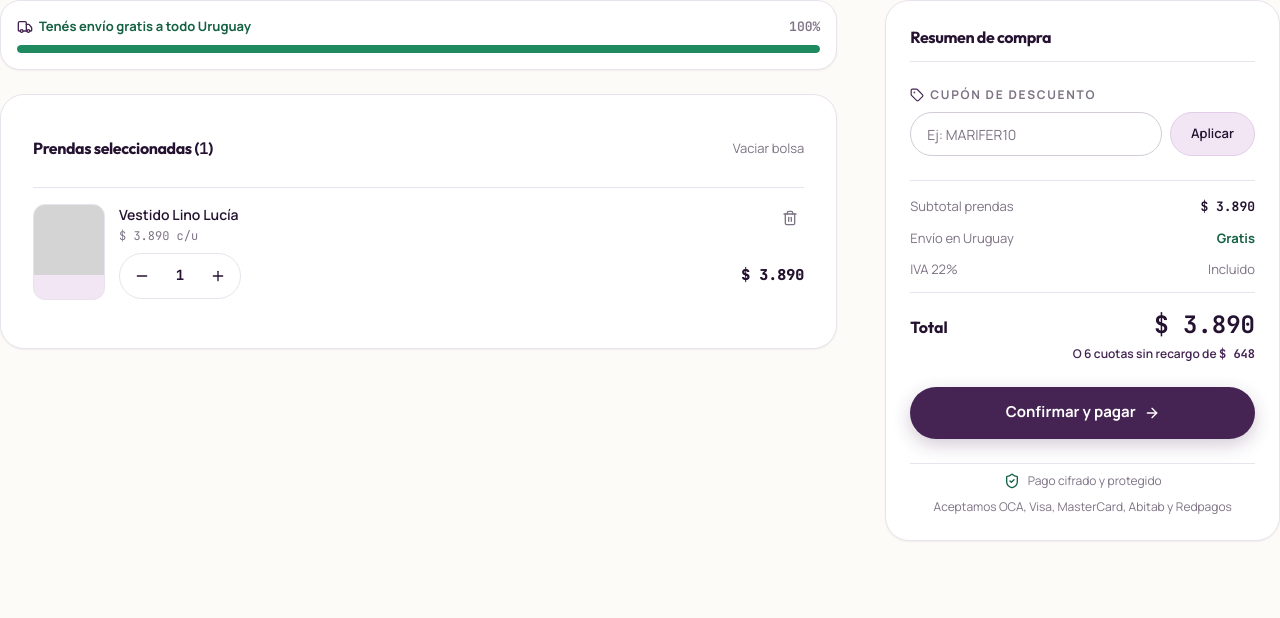
Test: Tier 3: Cross-Feature Combinations & State Integration › Promo code application in CartPageContent updates discount and installment calculation
This screenshot has width=1280, height=618.
Expected: the text "Subtotal prendas" is shown, [910,197,1014,216]
// Invalid promo code
Type "INVALIDO" into the field labelled "Cupón de descuento".
click(1036, 134); type("INVALIDO")  # box [910,112,1162,156]
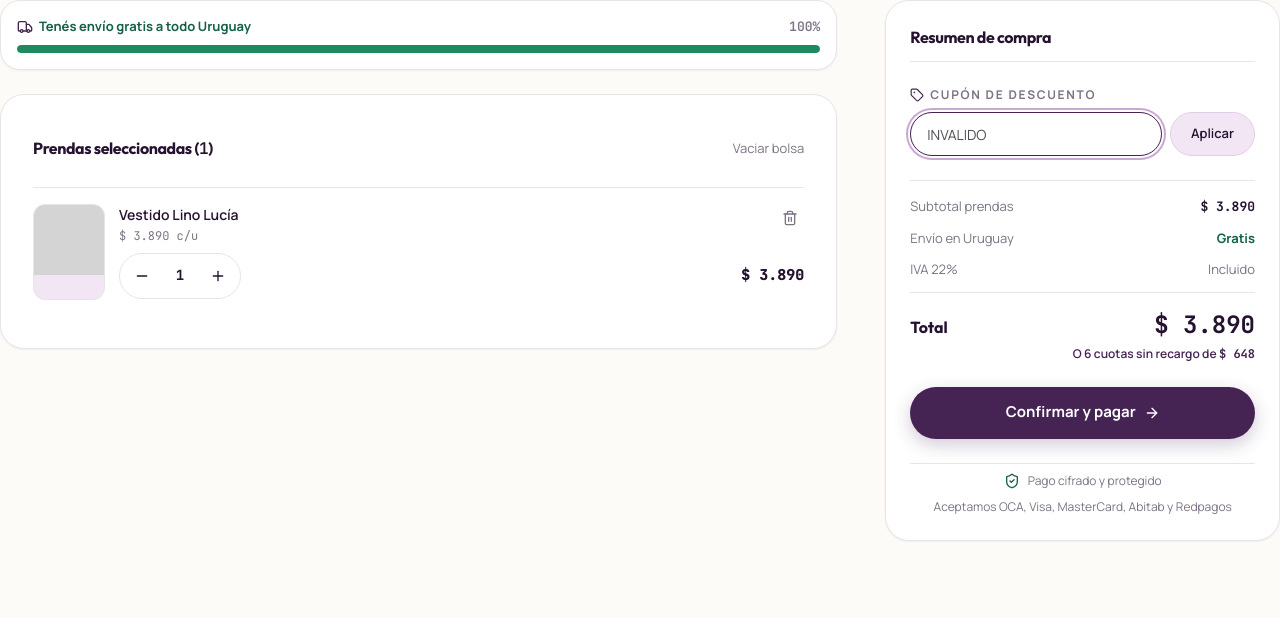
Click the button "Aplicar".
click(1212, 134)  # box [1170,112,1255,156]
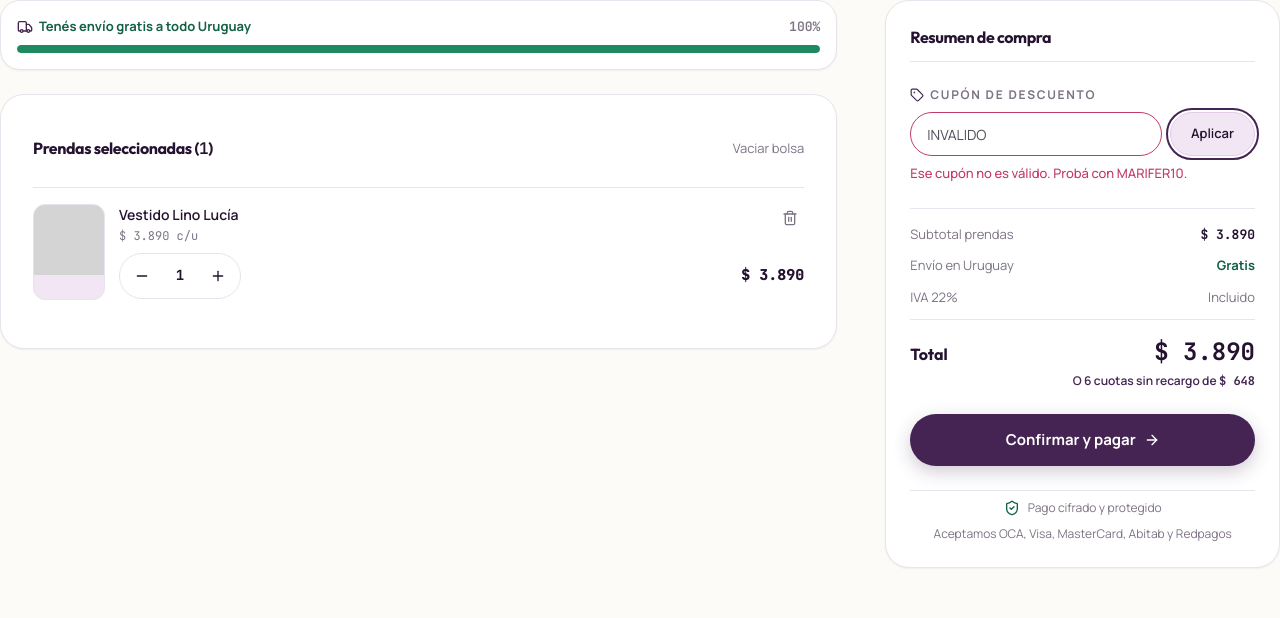
Now the message reads "Ese cupón no es válido. Probá con MARIFER10.", box [910,164,1187,182]
// Valid promo code
Replace the text in the field labelled "Cupón de descuento" with "MARIFER10" at (1036, 134), box [910,112,1162,156]
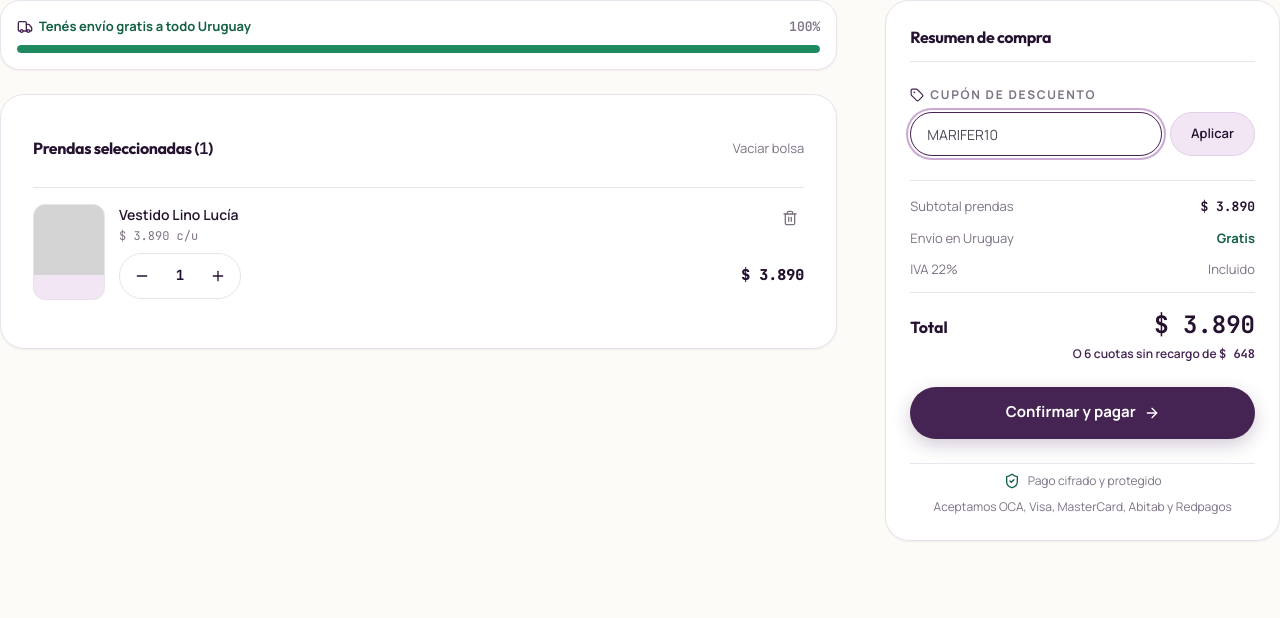
Click the button "Aplicar".
click(1212, 134)  # box [1170,112,1255,156]
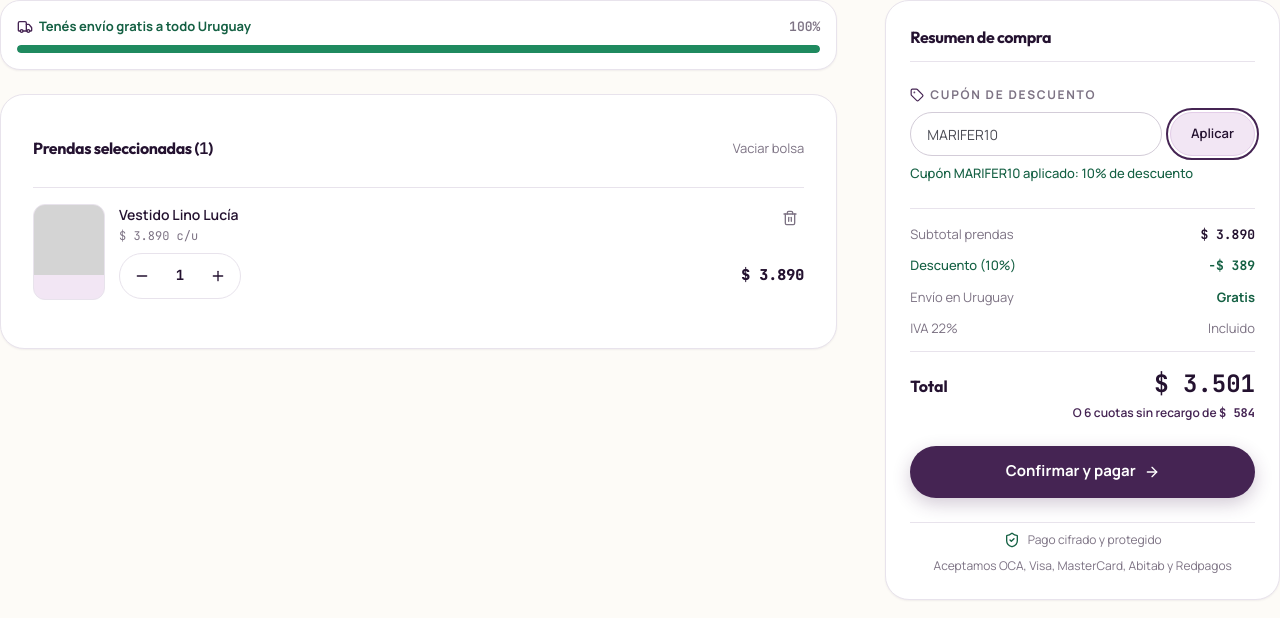
Now the text "Descuento (10%)" is shown, box [910,256,1016,276]
Now the text "-$ 389" is shown, box [1208,256,1255,276]
Now the text "$ 3.501" is shown, box [1154,368,1255,400]
